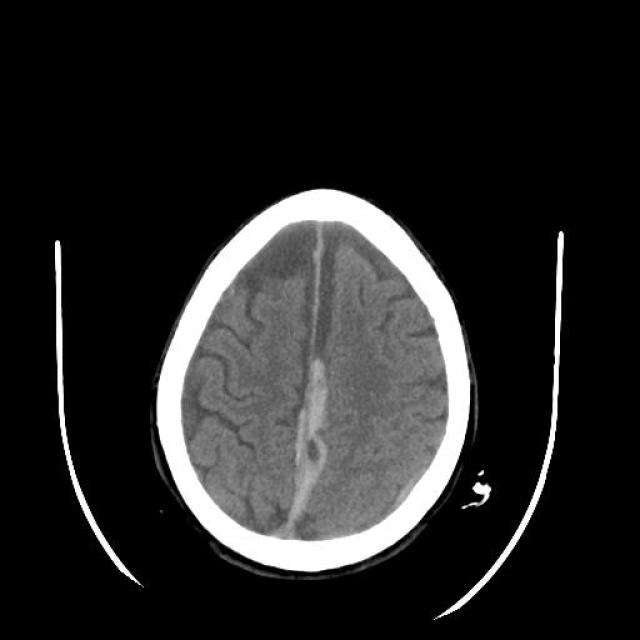Subdural: (245, 355, 367, 557)
